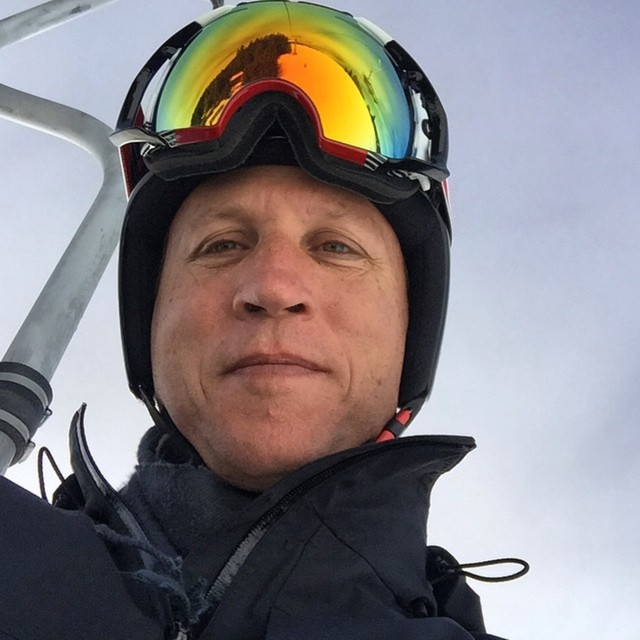helmet: (106, 13, 458, 302)
